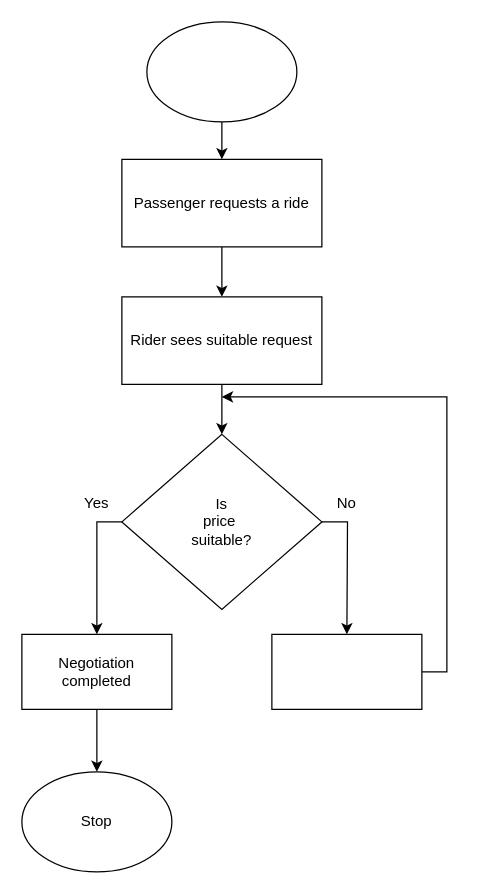
Image size: 479x894. Some labels were removed from this diagram. Here are the shapes that lost their labels. From the top down, the box of each, then its label:
(146, 21, 297, 122): Start
(271, 633, 422, 709): New price request
